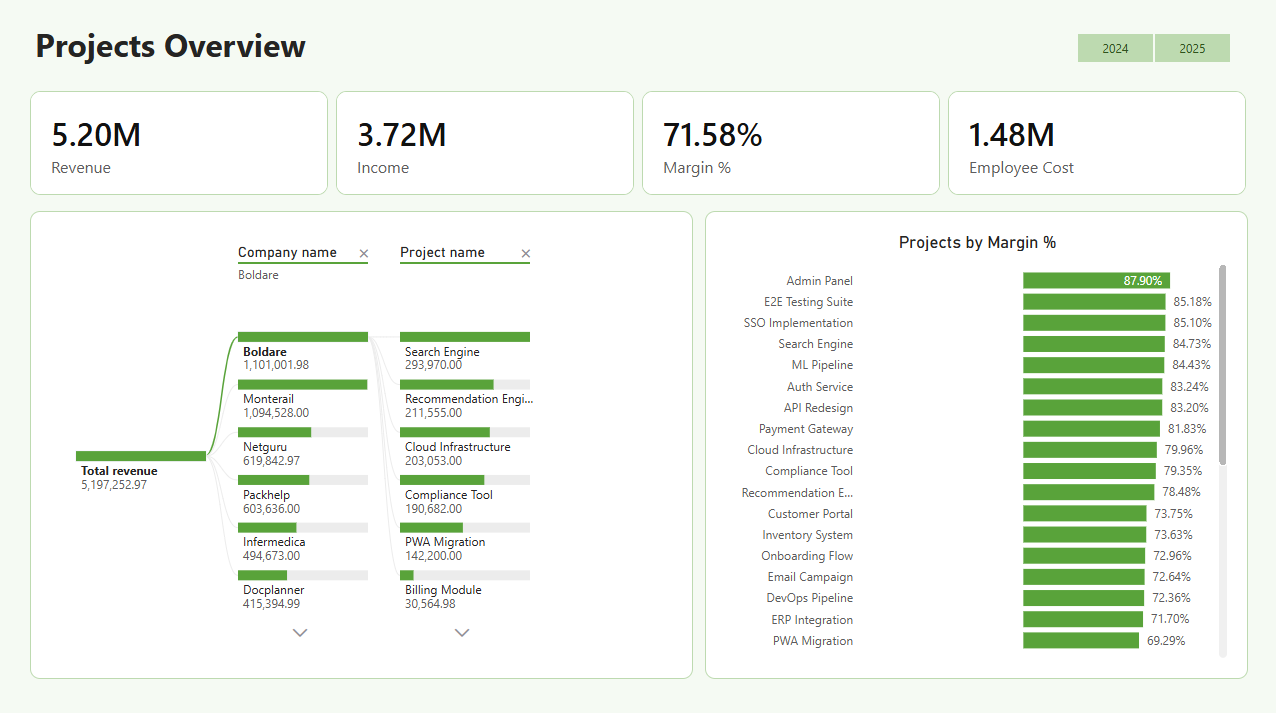

The dashboard page shown, as its layout file describes it:
{"tool":"powerbi","page":{"name":"Overview","canvas":[1280,720],"ordinal":0},"visuals":[{"type":"cardVisual","fields":{"Data":["_Measures.Total Revenue","fact_timesheet.Total Income","fact_timesheet.Margin %","fact_timesheet.Total Employee Cost"]},"box":[30.9,93.4,1218.6,103.3],"z":0},{"type":"slicer","title":"kkkk","fields":{"Values":["dim_date.year"]},"box":[1058,34.3,192.1,31.6],"z":1000},{"type":"clusteredBarChart","title":"Projects by Margin %","fields":{"Y":["fact_timesheet.Margin %"],"Category":["dim_projects.project_name"]},"box":[705.8,213.3,543.3,467.5],"z":2000},{"type":"decompositionTreeVisual","fields":{"ExplainBy":["dim_projects.company_name","dim_projects.project_name"],"Analyze":["Sum(fact_invoices.amount_pln)"]},"box":[30.9,213.3,662.9,467.5],"z":3000},{"type":"textbox","box":[30.9,19.2,308.7,61.9],"z":4000}]}

Visuals, with their boxes in screenshot pixels (x1, y1, x2, y2), scaled from the page's 1280x720 canvas onto the 1276x713 screenshot:
cardVisual - _Measures.Total Revenue x fact_timesheet.Total Income: {"x1": 31, "y1": 92, "x2": 1246, "y2": 195}
"kkkk" slicer: {"x1": 1055, "y1": 34, "x2": 1246, "y2": 65}
"Projects by Margin %" clusteredBarChart: {"x1": 704, "y1": 211, "x2": 1245, "y2": 674}
decompositionTreeVisual - dim_projects.company_name x dim_projects.project_name: {"x1": 31, "y1": 211, "x2": 692, "y2": 674}
textbox: {"x1": 31, "y1": 19, "x2": 339, "y2": 80}
